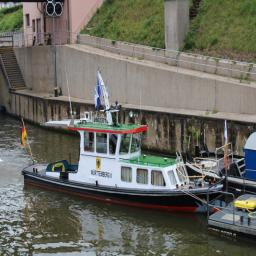tugboat: (21, 69, 248, 221)
